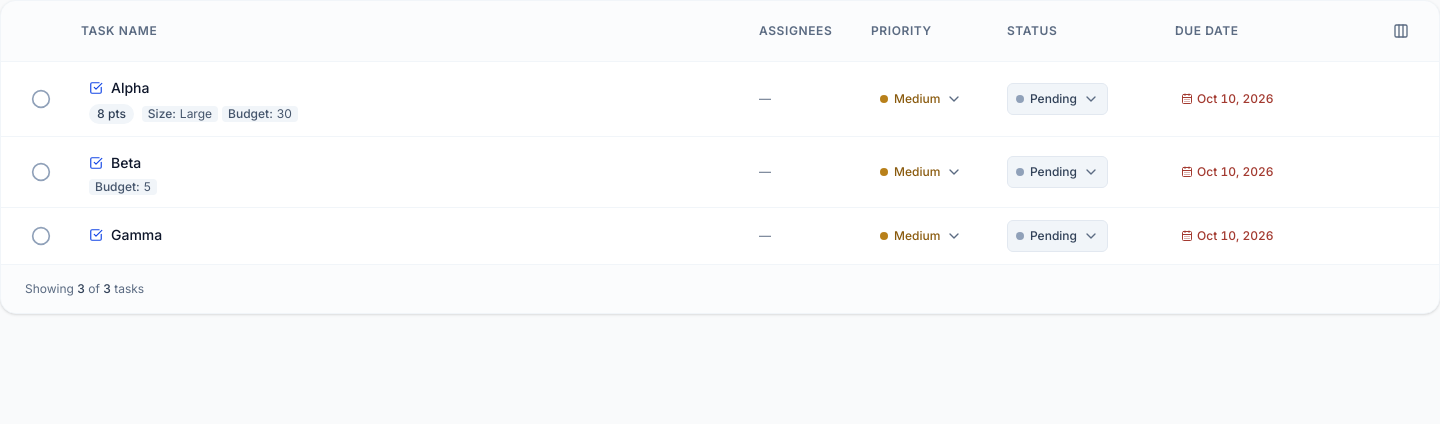
Test case: List view columns › shows the default columns and offers the rest in the Columns menu
The width and height of the screenshot is (1440, 424).
Step 1. Click the button named "Columns" → {"x": 1401, "y": 31}, box [1387, 17, 1415, 45]
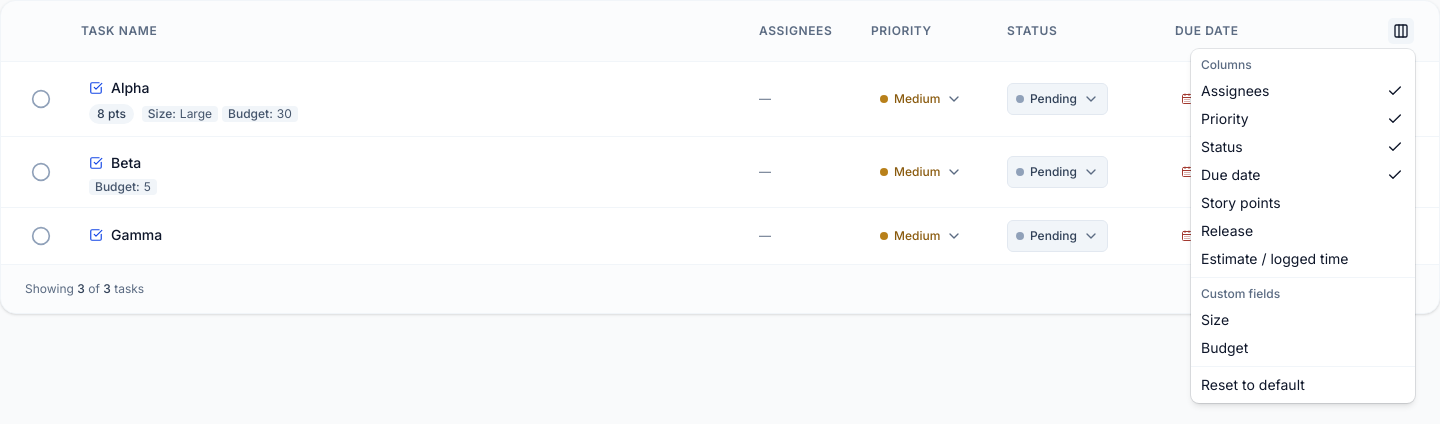
Check: the menu item "Assignees" is checked, box [1195, 77, 1411, 105]
Check: the menu item "Story points" is not checked, box [1201, 194, 1281, 211]
Check: the menu item "Size" is not checked, box [1201, 311, 1229, 328]
